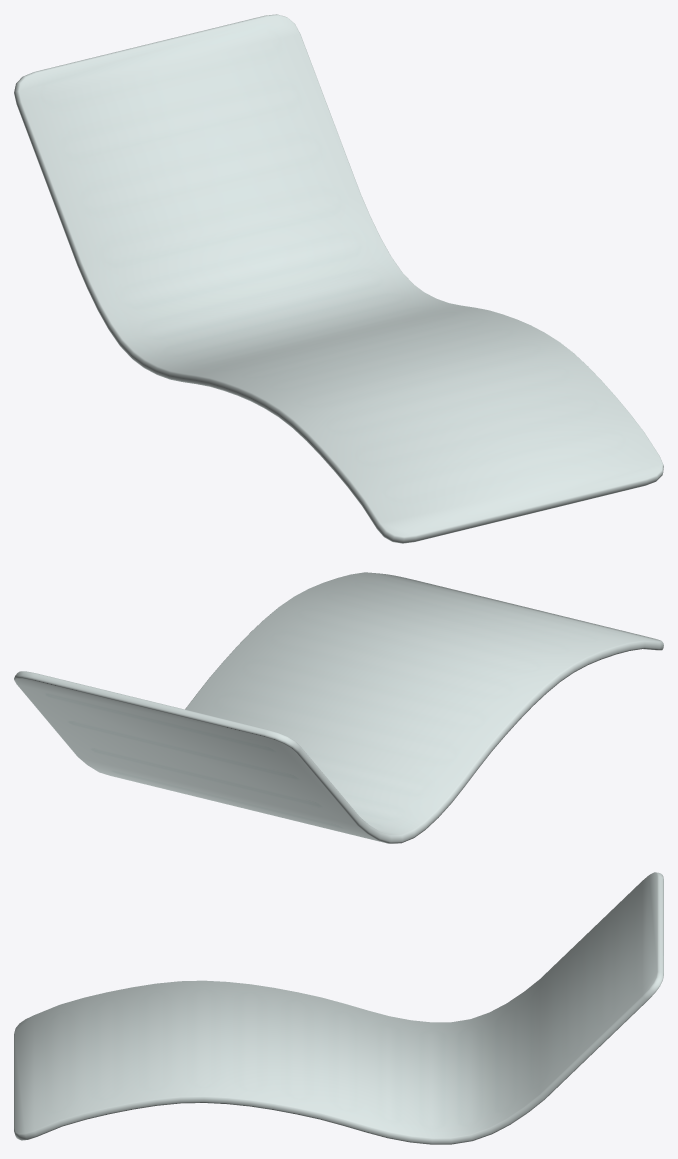
File: PoolLounger02_3.FBX
The picture shows the model from 3 angles, top to bottom: view 1: azimuth 30°, elevation 25°; view 2: azimuth 150°, elevation 25°; view 3: azimuth 270°, elevation 25°; orthographic projection. The views are drawn at different scales.
Parts seen in each view (by area): view 1: PoolLounger02_3; view 2: PoolLounger02_3; view 3: PoolLounger02_3.
Boxes of the visible parts, box(x1,y1,x2,y2) form: PoolLounger02_3: box(14, 14, 663, 543); PoolLounger02_3: box(14, 572, 663, 843); PoolLounger02_3: box(14, 872, 663, 1144).
Size of what is drawn, in the model's own units: 0.7112 by 0.4627 by 1.67.
